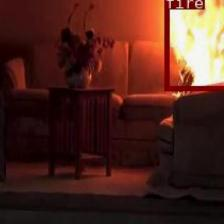fire: (164, 0, 224, 89)
